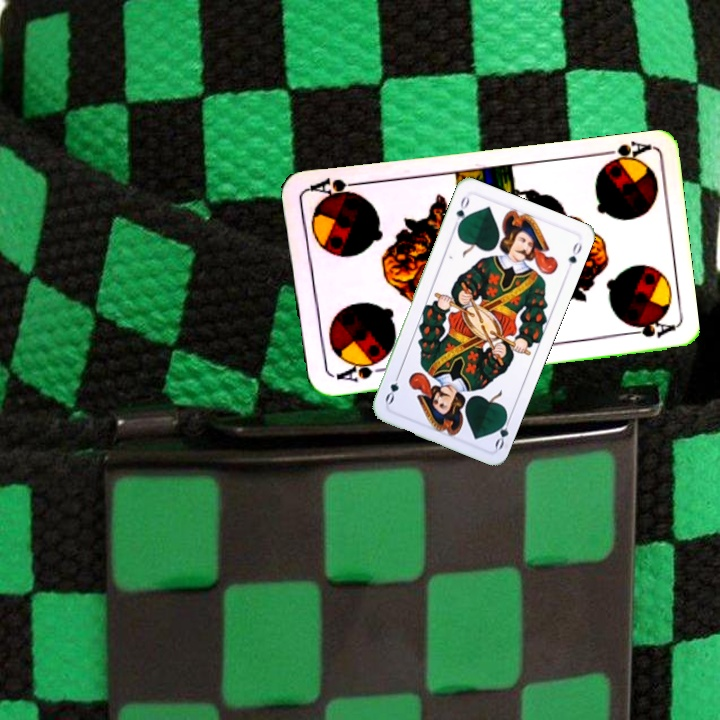GO: (491, 411, 514, 452), (449, 192, 472, 232)
SA: (593, 138, 653, 170), (327, 356, 386, 385)
